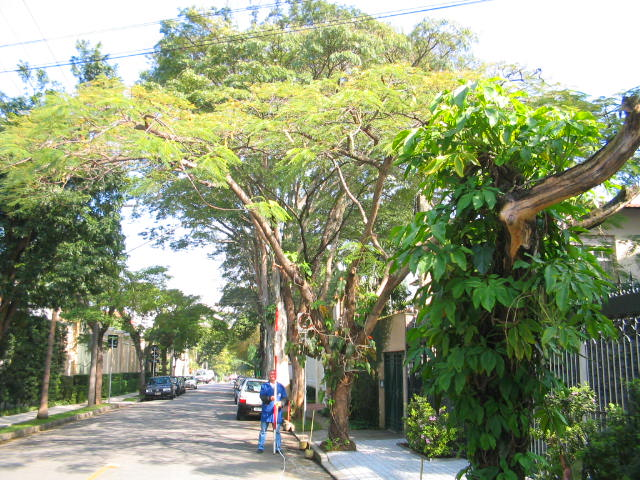crown: (2, 65, 426, 254)
stem: (315, 351, 372, 449)
stick: (266, 306, 281, 455)
tree: (1, 63, 427, 451)
